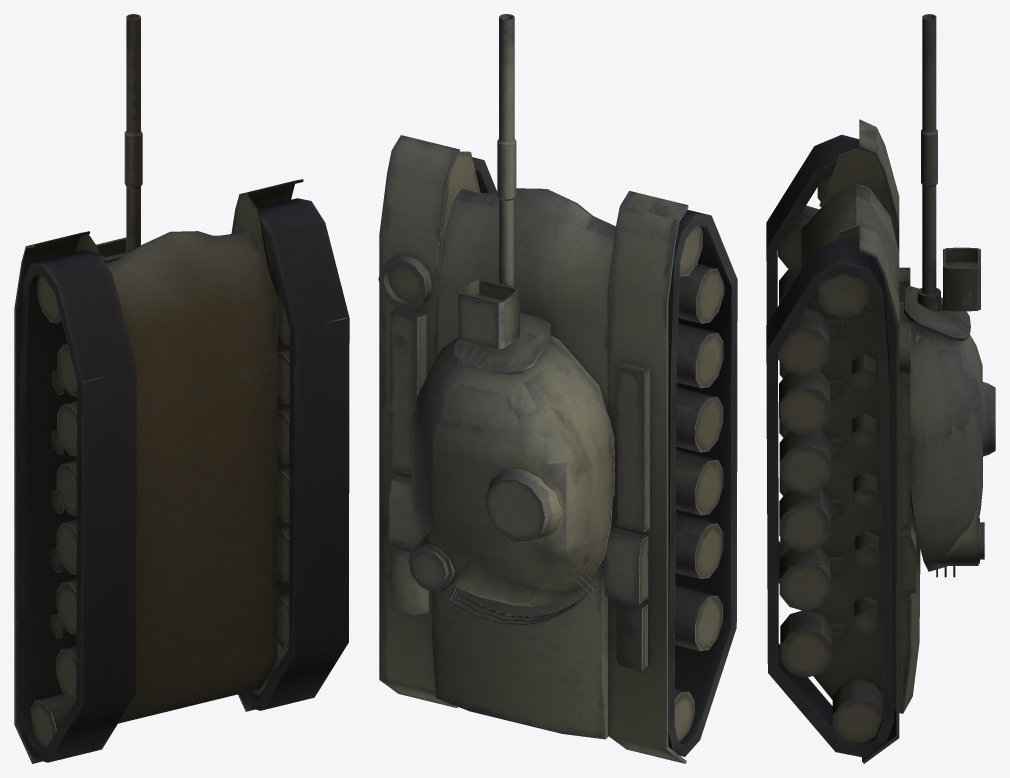
3 renders of one model, left to right at view 1: azimuth 30°, elevation 25°; view 2: azimuth 150°, elevation 25°; view 3: azimuth 270°, elevation 25°, orthographic. The views are drawn at different scales.
Parts seen in each view (by area): view 1: M48, M48 Turret; view 2: M48, M48 Turret; view 3: M48, M48 Turret.
Boxes of the visible parts, x1,y1,x2,y2 form: M48: (14, 179, 349, 763); M48 Turret: (96, 14, 142, 263); M48: (378, 135, 737, 763); M48 Turret: (408, 14, 614, 625); M48: (766, 119, 920, 763); M48 Turret: (899, 14, 995, 577).
Size of the model in its own units: 161 by 394 by 120.
